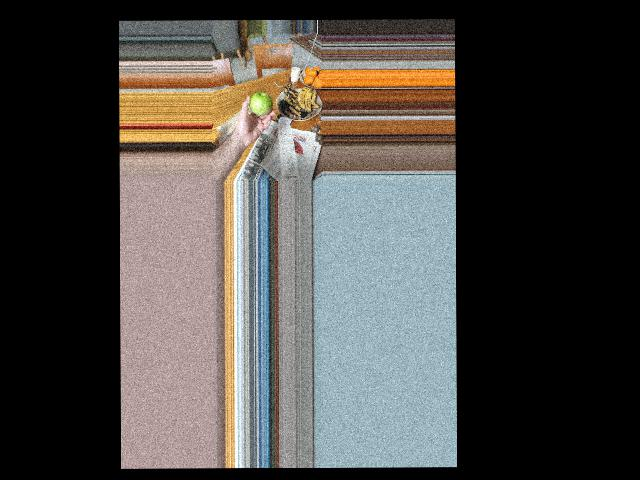apple: (249, 91, 273, 114)
